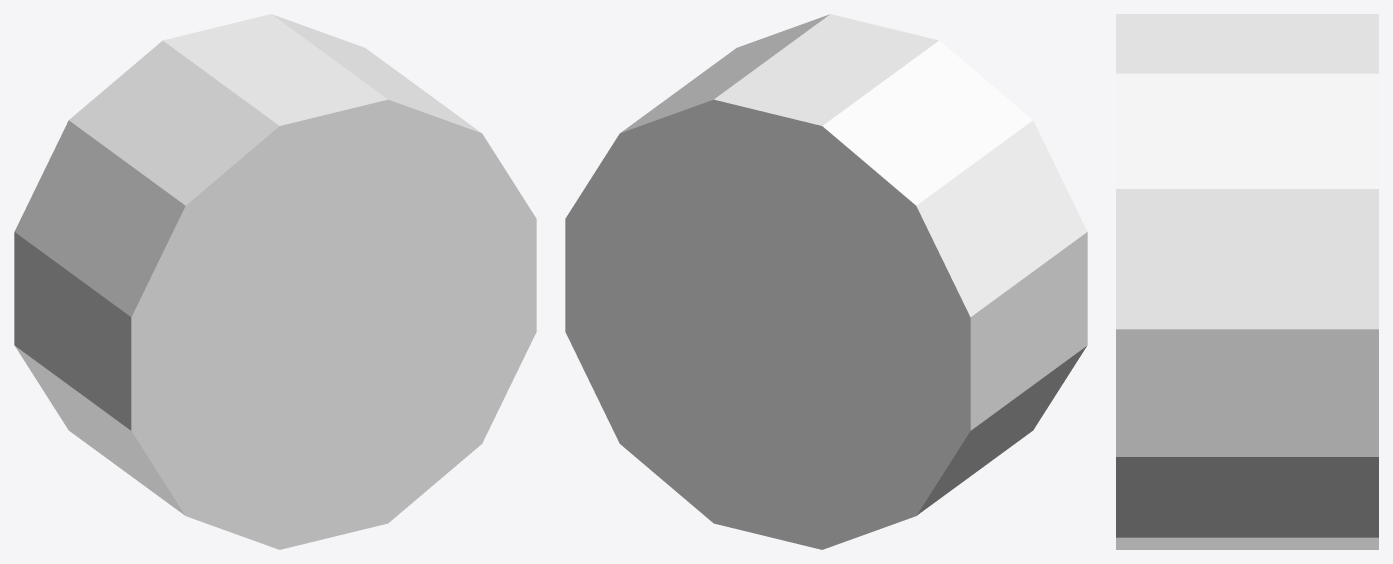
3 views of the same model, side by side, from view 1: azimuth 30°, elevation 25°; view 2: azimuth 150°, elevation 25°; view 3: azimuth 270°, elevation 25° (orthographic). The views are drawn at different scales.
Parts seen in each view (by area): view 1: cylinder; view 2: cylinder; view 3: cylinder.
Boxes of the visible parts, left/top/right/bottom form: cylinder: left=14, top=14, right=536, bottom=549; cylinder: left=565, top=14, right=1087, bottom=549; cylinder: left=1116, top=14, right=1378, bottom=549.
Size of the model in its own units: 100 by 100 by 50.
Materials: 1 (1 with a texture image).
